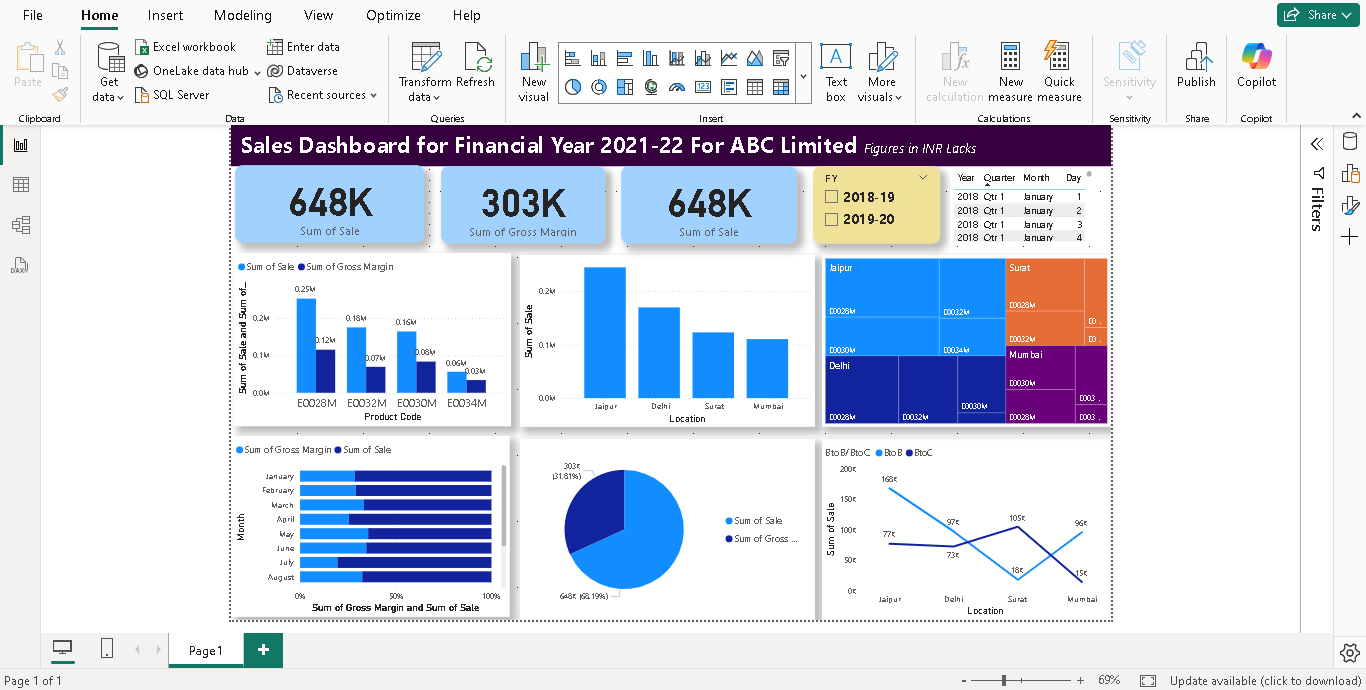

This screenshot's page, from the dashboard's own definition file:
{"tool":"powerbi","page":{"name":"Page 1","canvas":[1280,720],"ordinal":0},"visuals":[{"type":"textbox","box":[0,0,1280,59.6],"z":0},{"type":"card","fields":{"Values":["Sum(Data.Sale)"]},"box":[5.8,58.2,274.9,113.5],"z":1},{"type":"card","fields":{"Values":["Sum(Data.Gross Margin)"]},"box":[305.5,59.6,238.5,113.5],"z":2},{"type":"clusteredColumnChart","fields":{"Category":["Data.Product Code"],"Y":["Sum(Data.Sale)","Sum(Data.Gross Margin)"]},"box":[4.4,186.2,402.9,251.6],"z":3},{"type":"lineClusteredColumnComboChart","fields":{"Category":["Data.Location"],"Y":["Sum(Data.Sale)"]},"box":[420.4,189.1,429.1,250.2],"z":4},{"type":"hundredPercentStackedBarChart","fields":{"Category":["Data.Date.Variation.Date Hierarchy.Month"],"Y":["Sum(Data.Gross Margin)","Sum(Data.Sale)"]},"box":[1.5,452.4,404.4,263.3],"z":5},{"type":"pieChart","fields":{"Y":["Sum(Data.Sale)","Sum(Data.Gross Margin)"]},"box":[420.4,456.7,429.1,263.3],"z":6},{"type":"lineChart","fields":{"Category":["Data.Location"],"Series":["Data.BtoB/BtoC"],"Y":["Sum(Data.Sale)"]},"box":[859.6,456.7,420.4,263.3],"z":7},{"type":"card","fields":{"Values":["Sum(Data.Sale)"]},"box":[567.3,59.6,256,113.5],"z":8},{"type":"treemap","fields":{"Group":["Data.Location"],"Details":["Data.Product Code"],"Values":["Sum(Data.Sale)"]},"box":[859.6,189.1,420.4,250.2],"z":9},{"type":"slicer","fields":{"Values":["Data.FY"]},"box":[846.5,59.6,184.7,113.5],"z":10},{"type":"tableEx","fields":{"Values":["Data.Date.Variation.Date Hierarchy.Year","Data.Date.Variation.Date Hierarchy.Quarter","Data.Date.Variation.Date Hierarchy.Month","Data.Date.Variation.Date Hierarchy.Day"]},"box":[1045.8,61.1,212.4,113.5],"z":11}]}

Visuals, with their boxes on the page's 1280x720 design canvas (x1, y1, x2, y2). These are canvas units, not pixel positions in the 1366x690 screenshot, which may show the page scaled, cropped or inside an application window:
textbox: bbox(0, 0, 1280, 60)
card - Sum(Data.Sale): bbox(6, 58, 281, 172)
card - Sum(Data.Gross Margin): bbox(306, 60, 544, 173)
clusteredColumnChart - Data.Product Code x Sum(Data.Sale): bbox(4, 186, 407, 438)
lineClusteredColumnComboChart - Data.Location x Sum(Data.Sale): bbox(420, 189, 850, 439)
hundredPercentStackedBarChart - Data.Date.Variation.Date Hierarchy.Month x Sum(Data.Gross Margin): bbox(2, 452, 406, 716)
pieChart - Sum(Data.Sale) x Sum(Data.Gross Margin): bbox(420, 457, 850, 720)
lineChart - Data.Location x Data.BtoB/BtoC: bbox(860, 457, 1280, 720)
card - Sum(Data.Sale): bbox(567, 60, 823, 173)
treemap - Data.Location x Data.Product Code: bbox(860, 189, 1280, 439)
slicer - Data.FY: bbox(846, 60, 1031, 173)
tableEx - Data.Date.Variation.Date Hierarchy.Year x Data.Date.Variation.Date Hierarchy.Quarter: bbox(1046, 61, 1258, 175)
